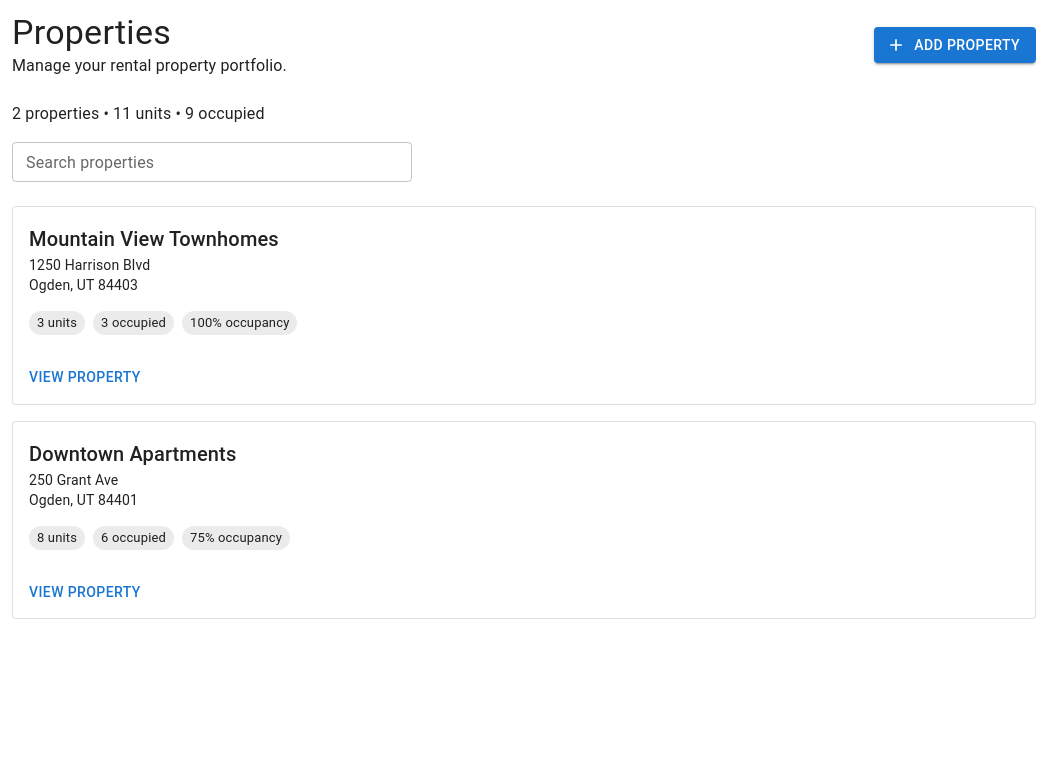
Test: PropertiesPage › filters properties based on search input
The image size is (1048, 780).
Type "Mountain" into the field labelled "Search properties" at (212, 162), box [12,142,412,182]
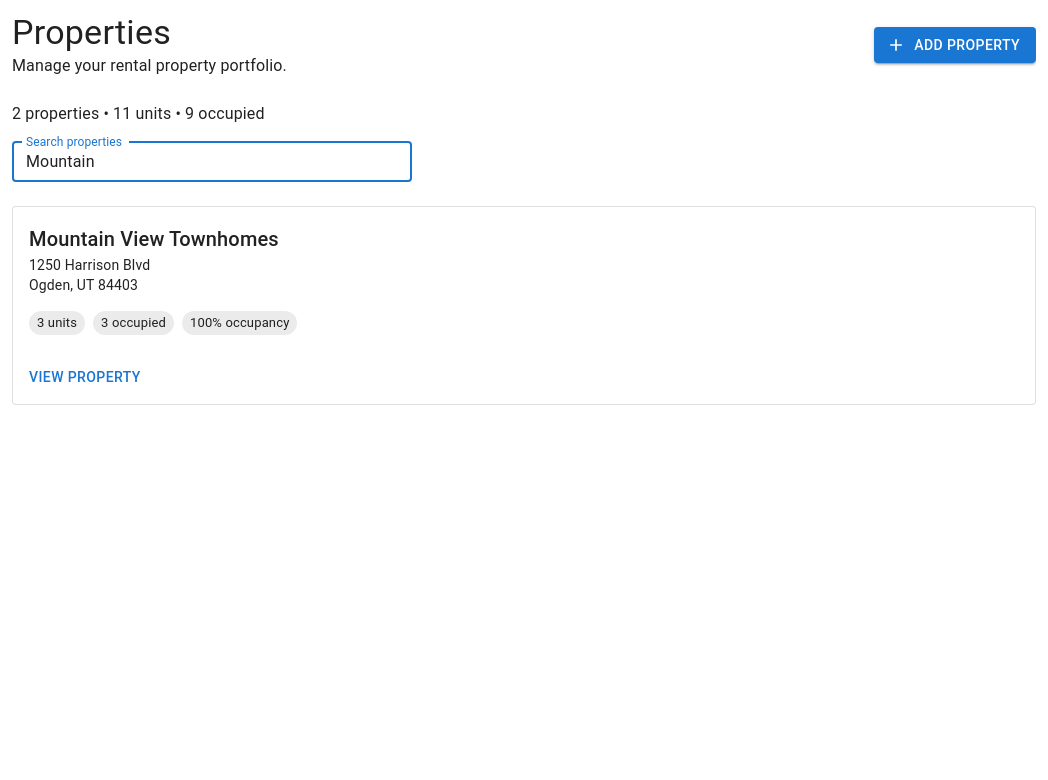
Expected: the heading "Mountain View Townhomes" is shown, [29,227,279,251]
Result: the heading "Downtown Apartments" is gone
